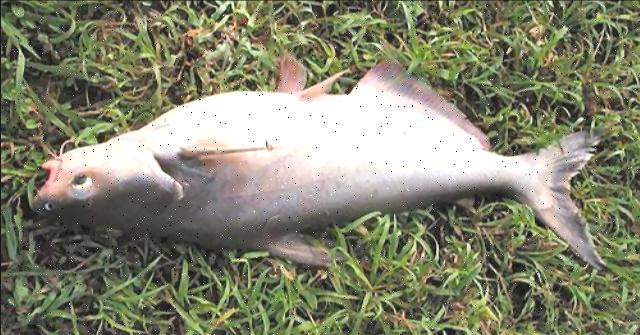Mulut: (20, 148, 64, 218)
Sirip Anal: (358, 54, 494, 156)
Sirip Dada: (175, 134, 279, 168)
Sirip Ekor: (528, 118, 610, 272)
Sirip Perut: (264, 46, 346, 116)
Sirip Punggung: (262, 227, 348, 279)
